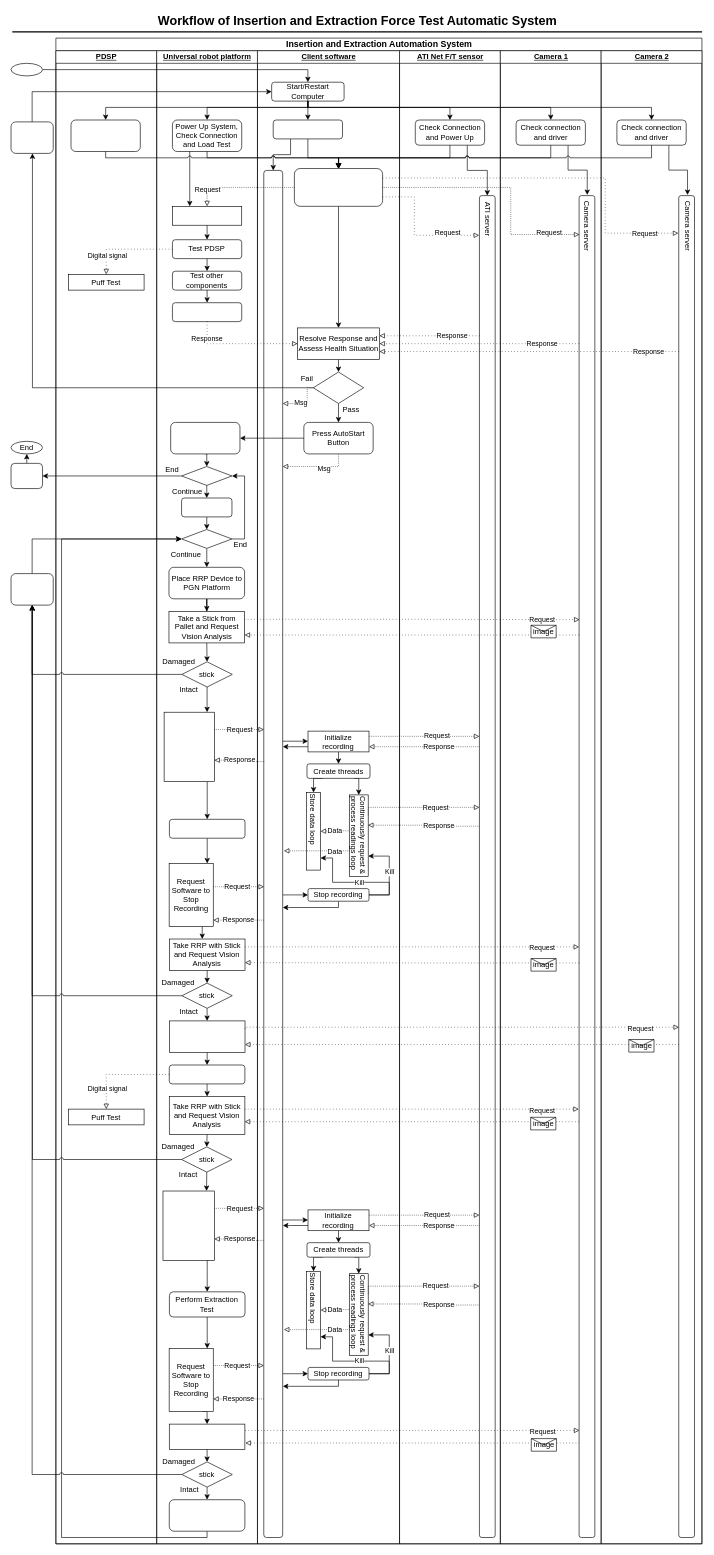
The diagram is 714 pixels wide and 1555 high, and some of its shapes have lost their labels. The shapes that lost their labels are listed below. From the top down, each one's centre as x and y in pixels, then its label:
(x=26, y=69): Start
(x=31, y=137): Operator Check Hardwares
(x=105, y=135): Check Connection, Power Up and Verify Settings
(x=308, y=129): Run Software
(x=338, y=187): Set Configurations and Request Sub-System for Test to Self-Diagnosis
(x=207, y=215): Receive Requests
(x=207, y=312): Send Responses
(x=338, y=387): Verification
(x=205, y=438): Exit Test Program and Load Main Program
(x=26, y=476): Close devices
(x=206, y=475): loop 1
(x=206, y=507): Change Pallet
(x=206, y=538): loop 2
(x=31, y=589): Operator intervetion
(x=189, y=747): Prepare for Insertion Test and Request Software to Record Force Data
(x=207, y=828): Perform Insertion Test
(x=273, y=854): Server and User Interface
(x=207, y=1036): Prepare for PDSP Test with vision feedback
(x=207, y=1074): Perform PDSP Test
(x=188, y=1225): Prepare for Extraction Test and Request Software to Record Force Data
(x=207, y=1436): Take Extracted Stick to Vision Analysis
(x=207, y=1515): Throw Sticks and Return RRP to Charger
